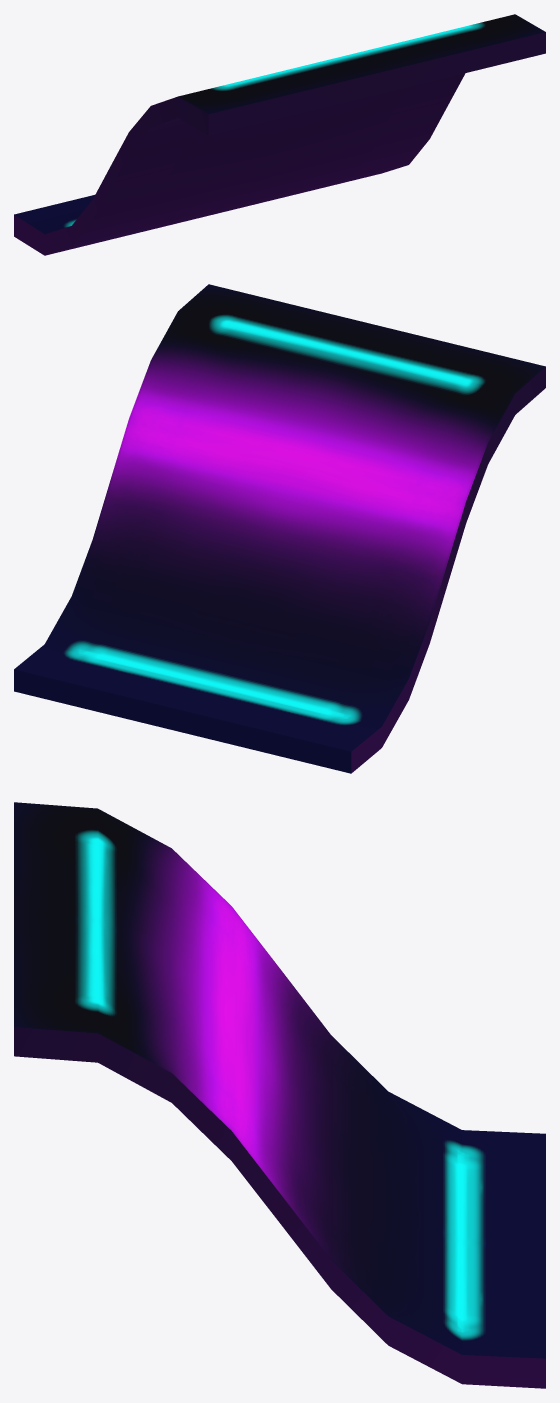
The model's file is urban_slope2.gltf.
3 views of the same model, one above another, from view 1: azimuth 30°, elevation 25°; view 2: azimuth 150°, elevation 25°; view 3: azimuth 270°, elevation 25° (orthographic). The views are drawn at different scales.
Visible parts, largest first — view 1: urban_slope2_glb; view 2: urban_slope2_glb; view 3: urban_slope2_glb.
Boxes of the visible parts, <box> form: urban_slope2_glb: <box>14,14,545,255</box>; urban_slope2_glb: <box>14,284,545,773</box>; urban_slope2_glb: <box>14,802,545,1388</box>.
Size of what is drawn, in the model's own units: 4 by 3 by 4.
1 material, 1 textured.
